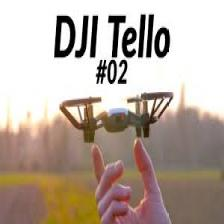drone: (59, 90, 175, 144)
